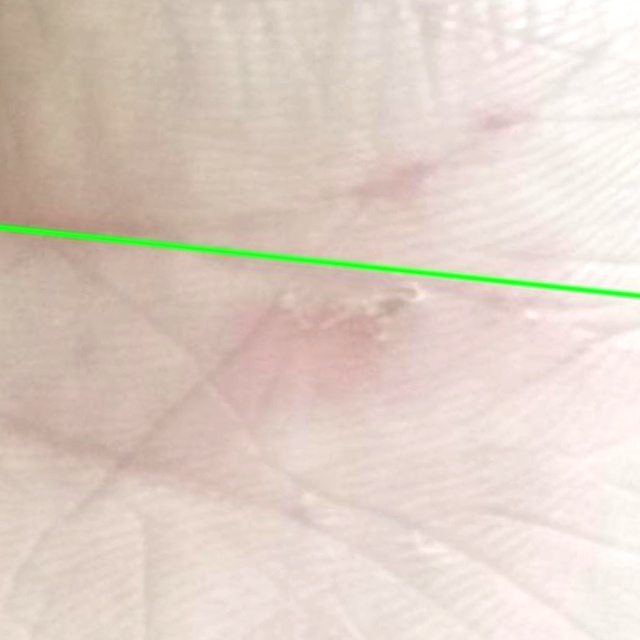Scabies: (0, 227, 639, 639)
